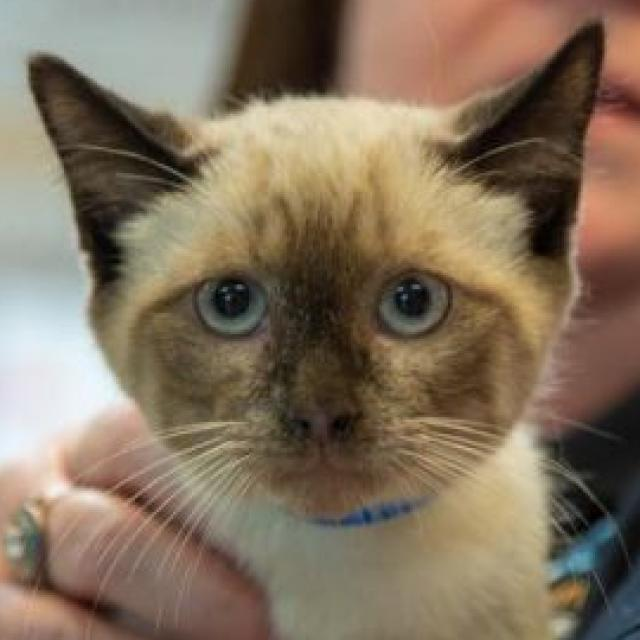Siamese: (16, 7, 612, 640)
